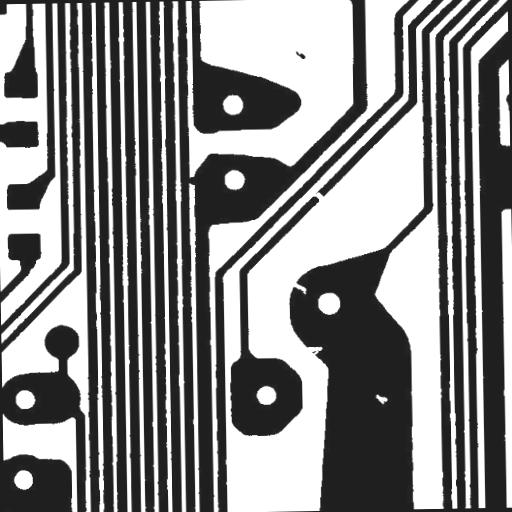copper: (288, 43, 312, 66)
mousebite: (295, 338, 330, 364), (284, 272, 314, 302)
open: (304, 184, 334, 212)
pin-hole: (368, 386, 395, 412)
short: (177, 168, 205, 192)
